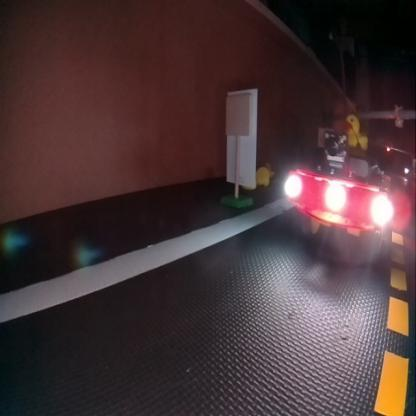Duckie: (344, 112, 368, 148), (257, 166, 268, 184), (264, 162, 274, 176)
Duckiebot: (286, 140, 390, 257)
Traffic light: (394, 104, 402, 127)
